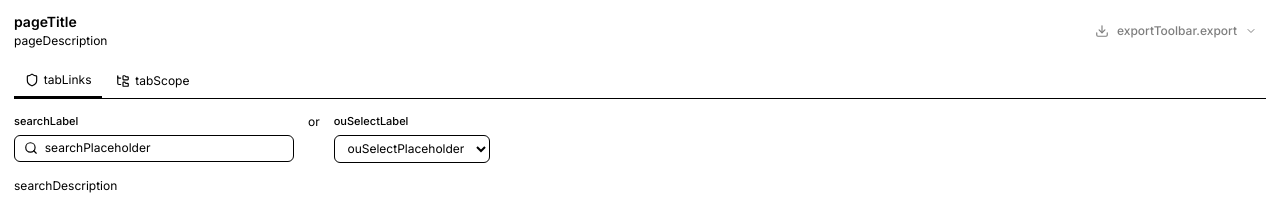
Test case: GpoViewer › switches to scope view
This screenshot has width=1280, height=210.
Click the button with test id "tab-scope": {"x": 153, "y": 81} [106,64,200,98]
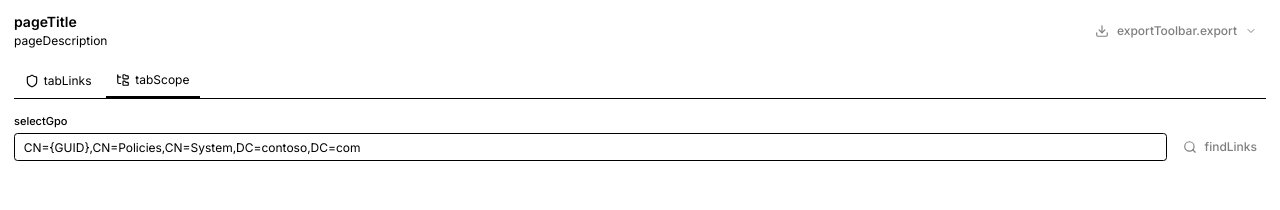
Expected: the field with test id "scope-gpo-dn" is shown, [14,133,1166,161]
Expected: the button with test id "scope-search-button" is shown, [1174,133,1266,161]
